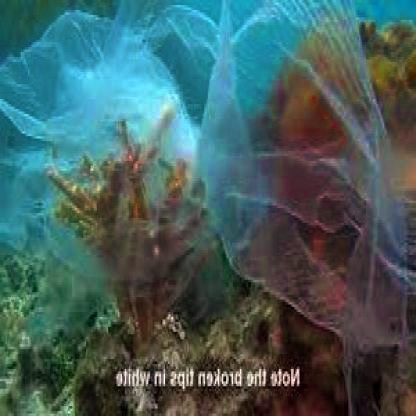pbag: (1, 2, 416, 364)
